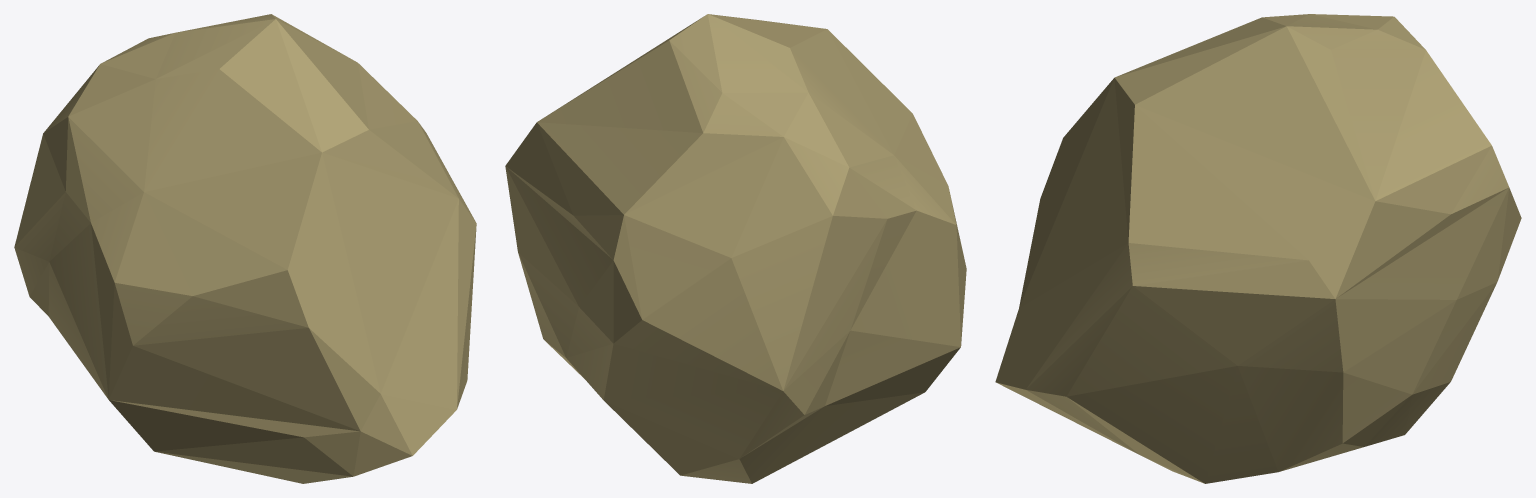
The model's file is SM_small_rock_37.fbx.
3 views of the same model, side by side, from view 1: azimuth 30°, elevation 25°; view 2: azimuth 150°, elevation 25°; view 3: azimuth 270°, elevation 25° (orthographic). The views are drawn at different scales.
Visible parts, largest first — view 1: small_rock_37; view 2: small_rock_37; view 3: small_rock_37.
Part boxes in pixels (box(x1,y1,x2,y2)): small_rock_37: box(14, 14, 476, 483); small_rock_37: box(505, 14, 966, 483); small_rock_37: box(995, 14, 1521, 483).
Size of the model in its own units: 28.63 by 30.14 by 32.41.
